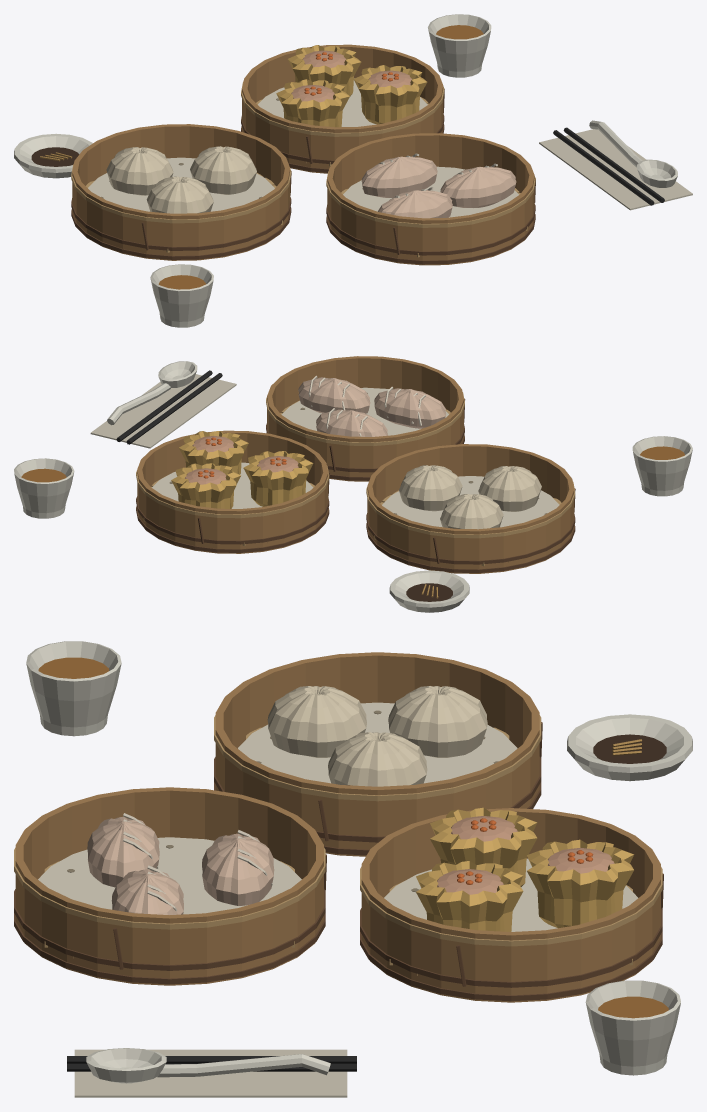
Rendered from steamers.glb.
The picture shows the model from 3 angles, top to bottom: view 1: azimuth 30°, elevation 25°; view 2: azimuth 150°, elevation 25°; view 3: azimuth 270°, elevation 25°; orthographic projection. The views are drawn at different scales.
Visible parts, largest first — view 1: DimDimSumSteamerService; view 2: DimDimSumSteamerService; view 3: DimDimSumSteamerService.
Boxes of the visible parts, x1,y1,x2,y2 form: DimDimSumSteamerService: (14, 14, 692, 327); DimDimSumSteamerService: (14, 356, 692, 612); DimDimSumSteamerService: (14, 641, 692, 1097).
Size of the model in its own units: 0.8148 by 0.0936 by 0.5946.
